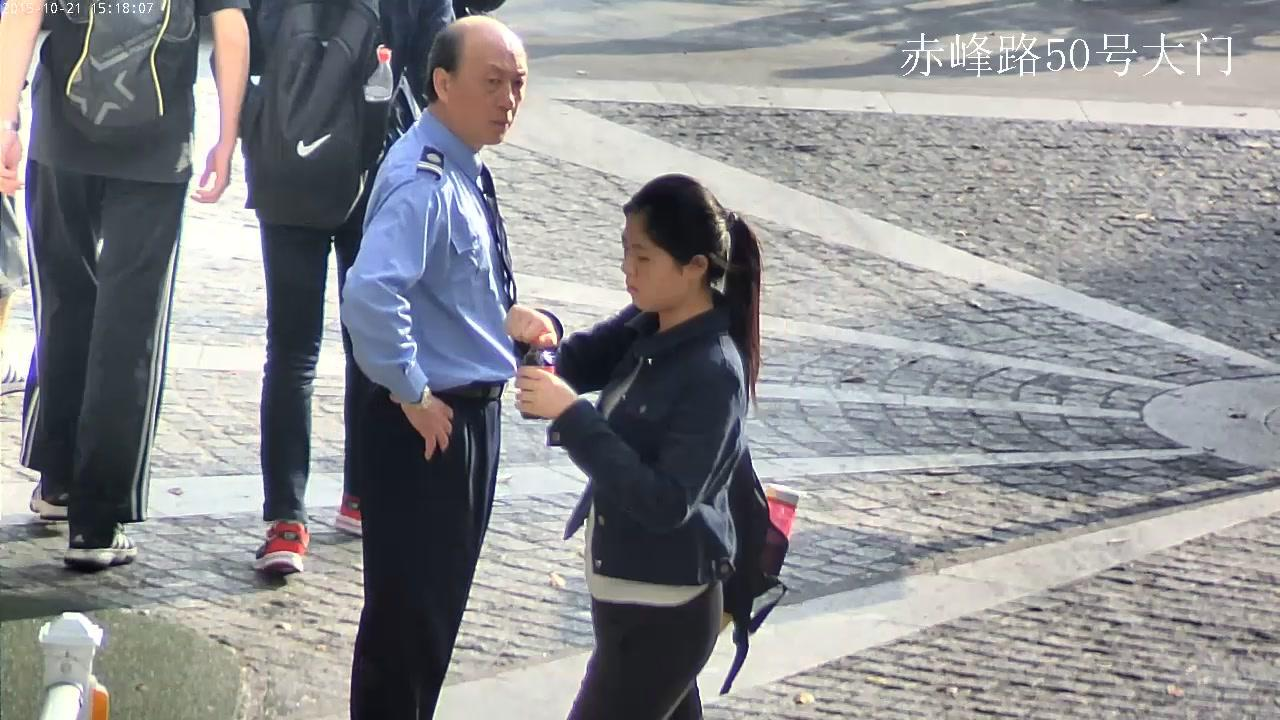person: (209, 0, 504, 575), (506, 174, 799, 720), (0, 1, 251, 567), (338, 14, 530, 719)
